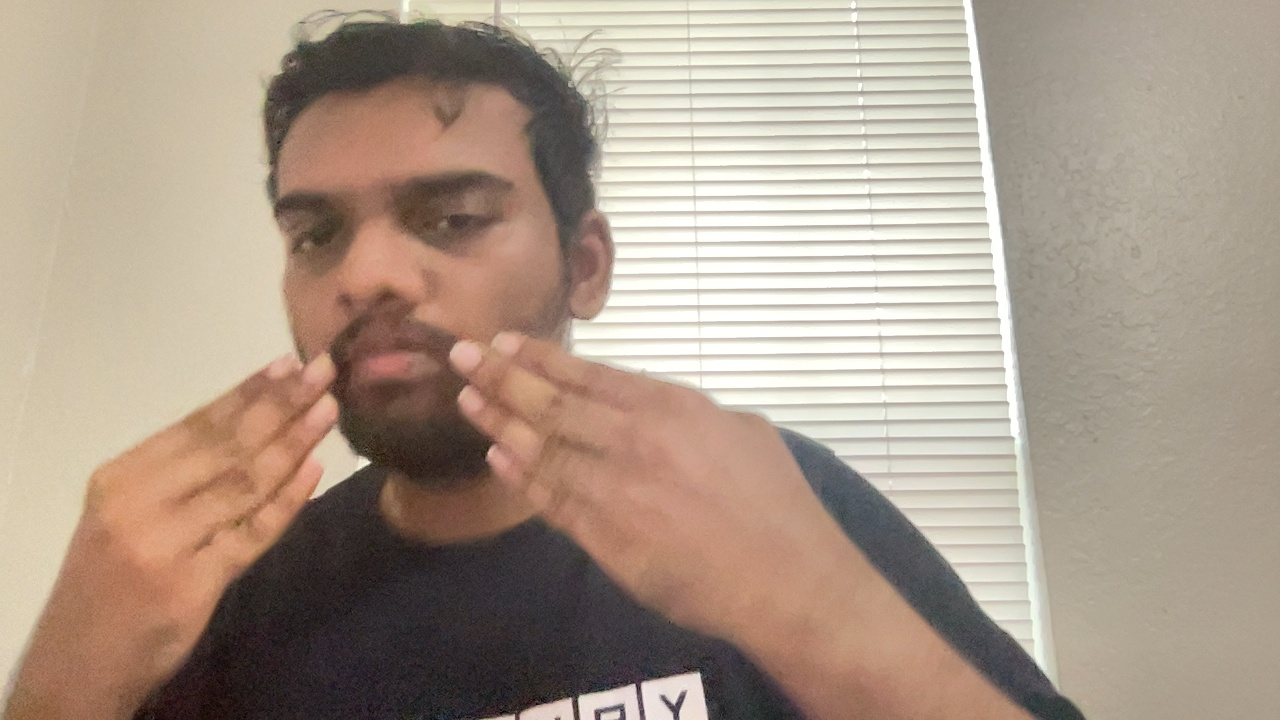thanks: (35, 326, 865, 656)
